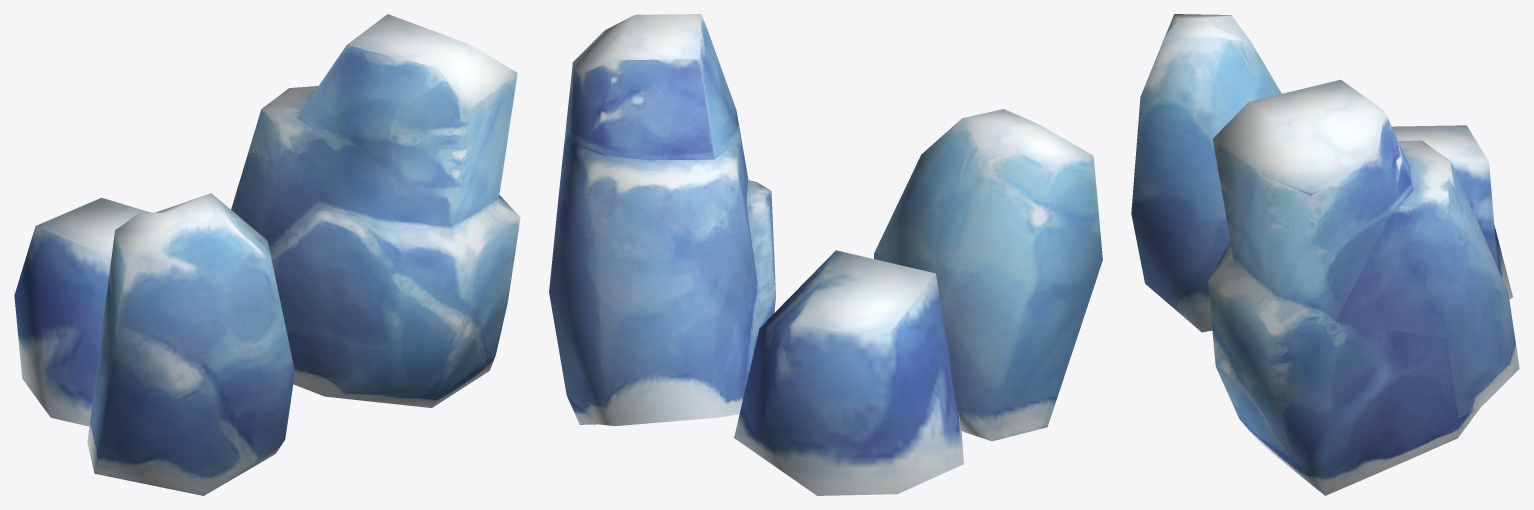
The model's file is SM_stoneB_14.fbx.
The picture shows the model from 3 angles, left to right: view 1: azimuth 30°, elevation 25°; view 2: azimuth 150°, elevation 25°; view 3: azimuth 270°, elevation 25°; orthographic projection. The views are drawn at different scales.
Visible parts, largest first — view 1: SM_stoneB_14; view 2: SM_stoneB_14; view 3: SM_stoneB_14.
Part boxes in pixels (bbox=[...]): SM_stoneB_14: bbox=[14, 14, 520, 495]; SM_stoneB_14: bbox=[549, 14, 1102, 495]; SM_stoneB_14: bbox=[1131, 14, 1519, 495].
Bounding box in the file's own units: 2.32 × 1.7 × 1.71.
